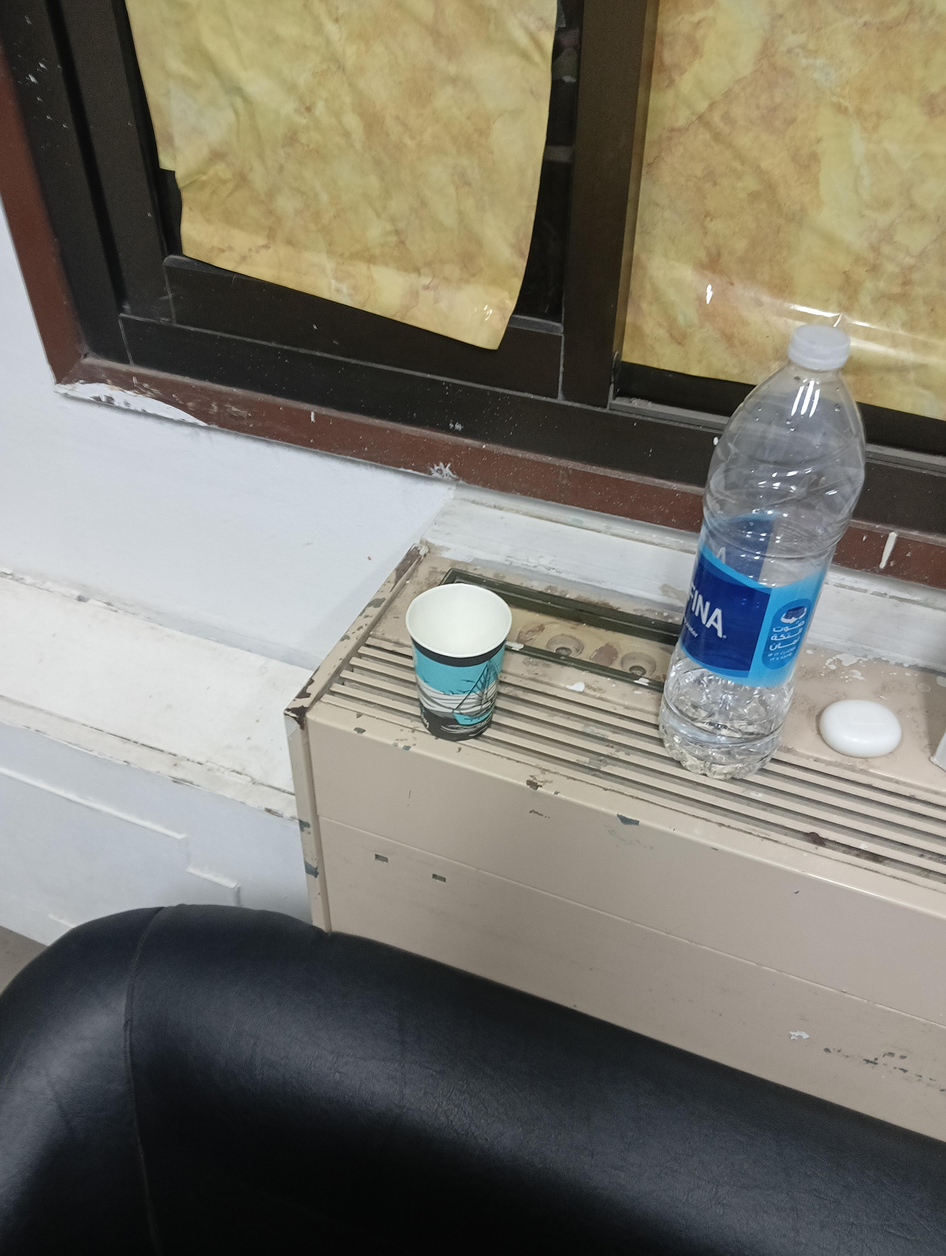Bottle: (660, 325, 865, 778)
cup: (406, 583, 511, 740)
